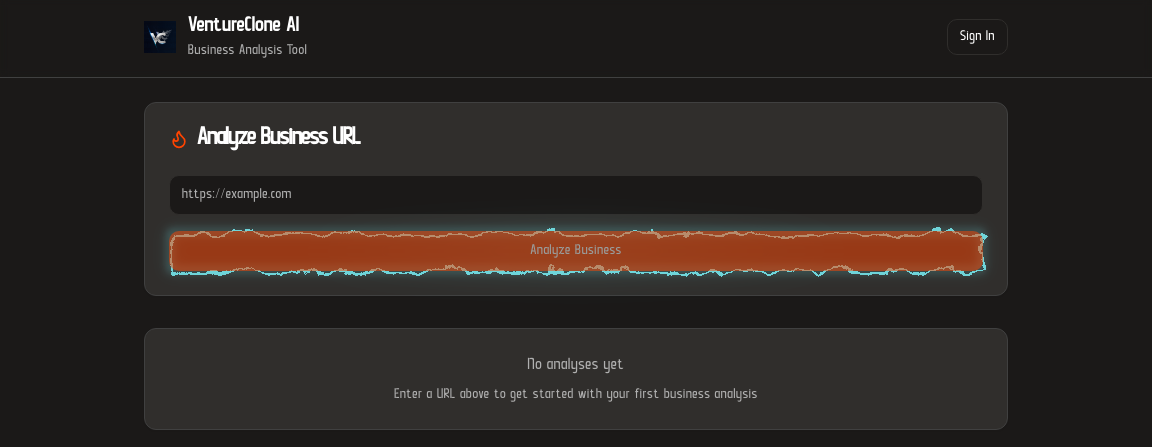
it: MinimalDashboard › URL Input Form › should enable submit button when valid URL is entered
Step 1. Type "https://test.com" into the field with placeholder "https://example.com" → (576,195), box [169, 175, 983, 215]
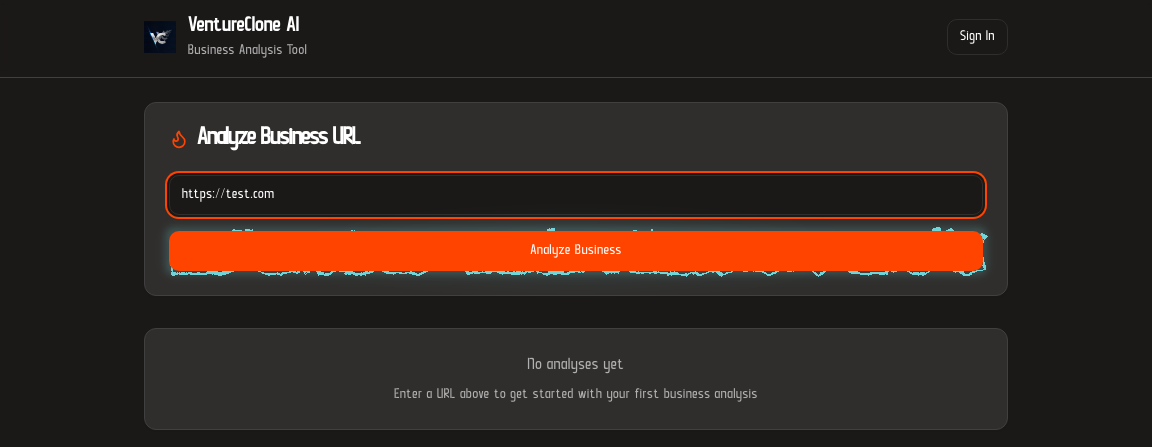
Expected: the button "Analyze Business" is enabled, [169, 231, 983, 271]
